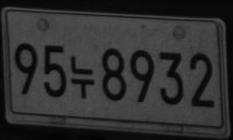2: (189, 51, 215, 109)
3: (159, 51, 184, 106)
5: (42, 44, 67, 97)
8: (101, 47, 127, 102)
9: (13, 41, 38, 96), (129, 48, 154, 102)
누: (70, 54, 95, 99)
